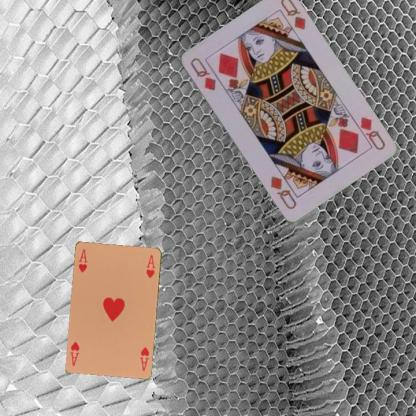Ah: (137, 344, 150, 372), (76, 246, 88, 274)
Qd: (350, 114, 386, 151), (187, 55, 218, 93)
